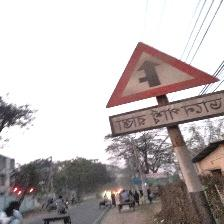Side-road-right: (104, 41, 224, 138)
